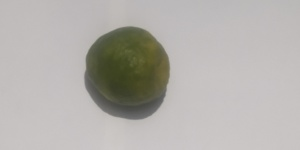BAD: (84, 25, 172, 107)
